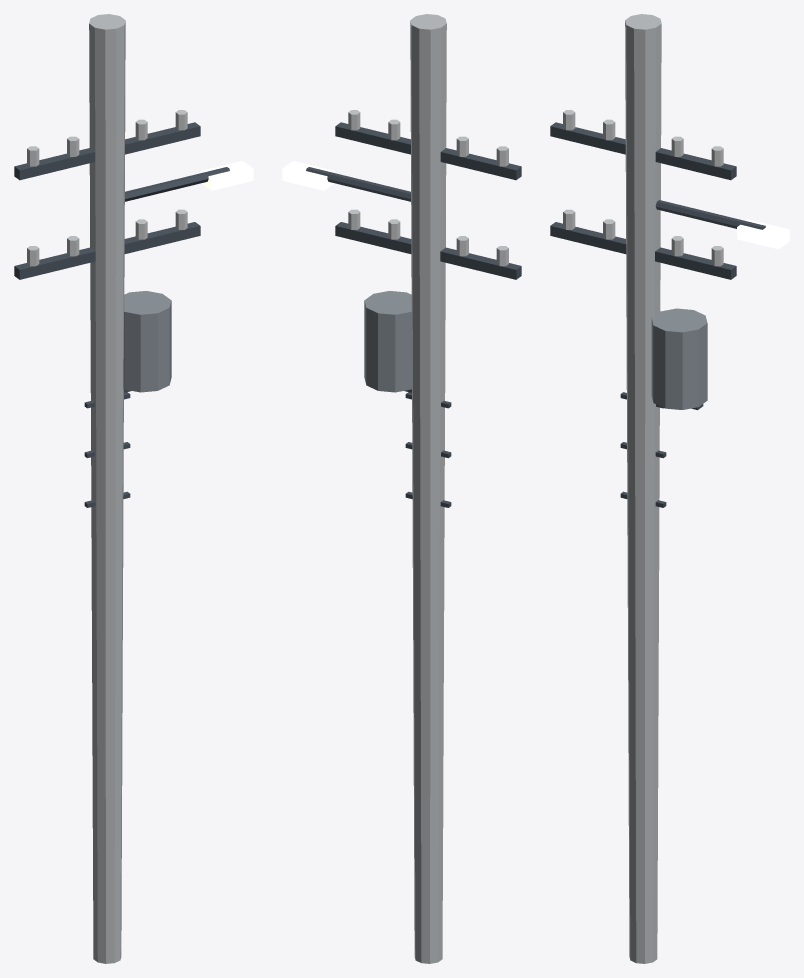
Rendered from prop_pole.glb.
The picture shows the model from 3 angles, left to right: view 1: azimuth 30°, elevation 25°; view 2: azimuth 150°, elevation 25°; view 3: azimuth 330°, elevation 25°; orthographic projection.
Visible parts, largest first — view 1: pole.002, transformer.002, crossarm.004, crossarm.005, lamp_arm.001, lamp_head.001; view 2: pole.002, transformer.002, crossarm.004, crossarm.005, lamp_arm.001, lamp_head.001; view 3: pole.002, transformer.002, crossarm.004, crossarm.005, lamp_arm.001, lamp_head.001.
Boxes of the visible parts, x1,y1,x2,y2 form: pole.002: (89, 14, 125, 963); transformer.002: (123, 291, 171, 392); crossarm.004: (14, 222, 200, 279); crossarm.005: (14, 122, 200, 180); lamp_arm.001: (125, 167, 229, 201); lamp_head.001: (201, 160, 253, 190); pole.002: (410, 14, 446, 963); transformer.002: (364, 291, 412, 392); crossarm.004: (335, 222, 521, 279); crossarm.005: (335, 122, 521, 180); lamp_arm.001: (306, 167, 410, 201); lamp_head.001: (282, 160, 334, 190); pole.002: (625, 14, 661, 963); transformer.002: (651, 308, 707, 409); crossarm.004: (550, 222, 736, 279); crossarm.005: (550, 122, 736, 180); lamp_arm.001: (655, 200, 765, 229); lamp_head.001: (737, 219, 789, 249).
Size of the model in its own units: 2.43 by 9.4 by 0.52.
